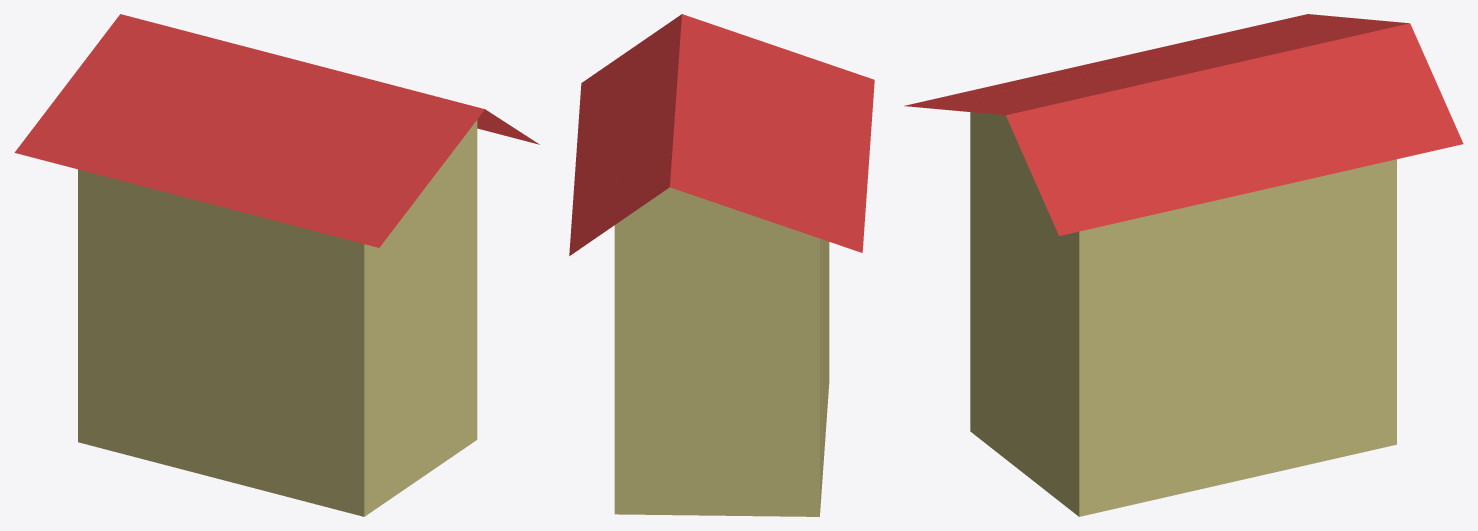
3 renders of one model, left to right at view 1: azimuth 30°, elevation 25°; view 2: azimuth 150°, elevation 25°; view 3: azimuth 270°, elevation 25°, orthographic. The views are drawn at different scales.
Bounding box in the file's own units: 7.72 × 8.53 × 6.51.
